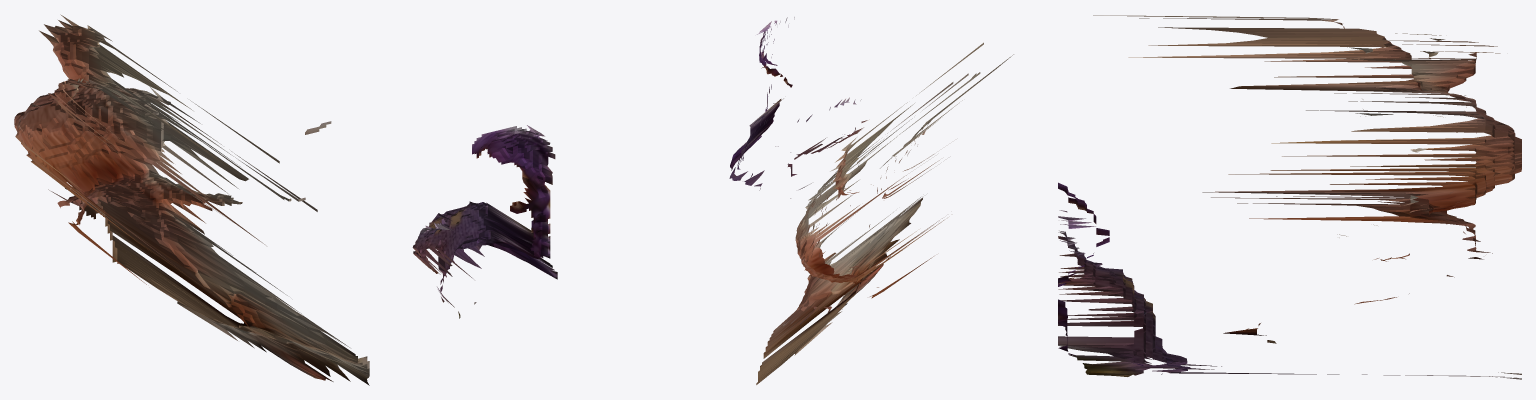
Rendered from frame_00301.glb.
The picture shows the model from 3 angles, left to right: view 1: azimuth 30°, elevation 25°; view 2: azimuth 150°, elevation 25°; view 3: azimuth 270°, elevation 25°; orthographic projection. The views are drawn at different scales.
Parts seen in each view (by area): view 1: geometry_0; view 2: geometry_0; view 3: geometry_0.
Boxes of the visible parts, <box> form: geometry_0: <box>14,14,557,385</box>; geometry_0: <box>729,17,1013,384</box>; geometry_0: <box>1058,15,1521,379</box>.
Bounding box in the file's own units: 0.1417 × 0.1144 × 0.16.
Materials: 1 (1 with a texture image).
